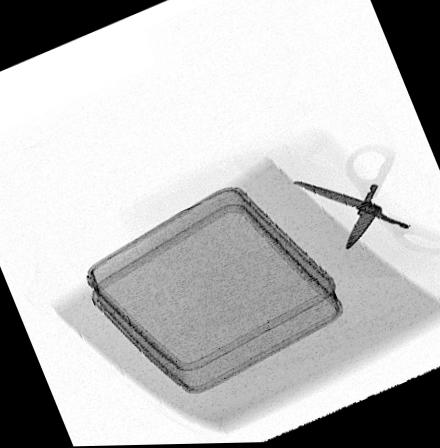Scissors: (289, 141, 440, 259)
